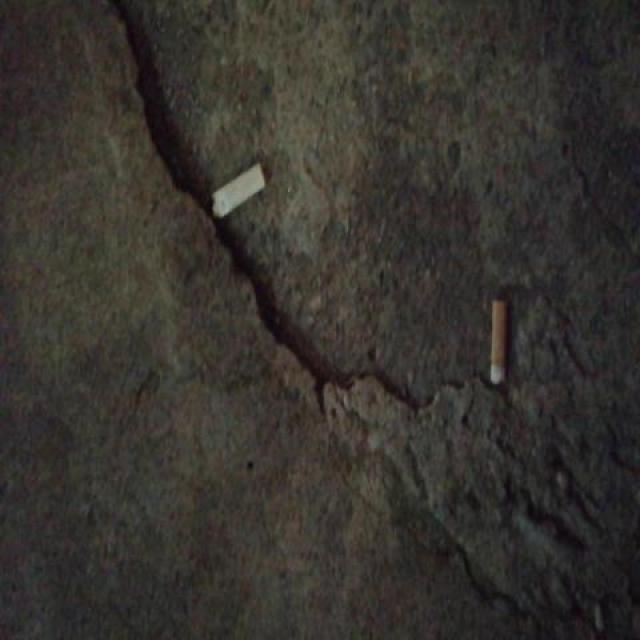non-organic waste: (206, 158, 271, 223), (486, 294, 517, 389)
